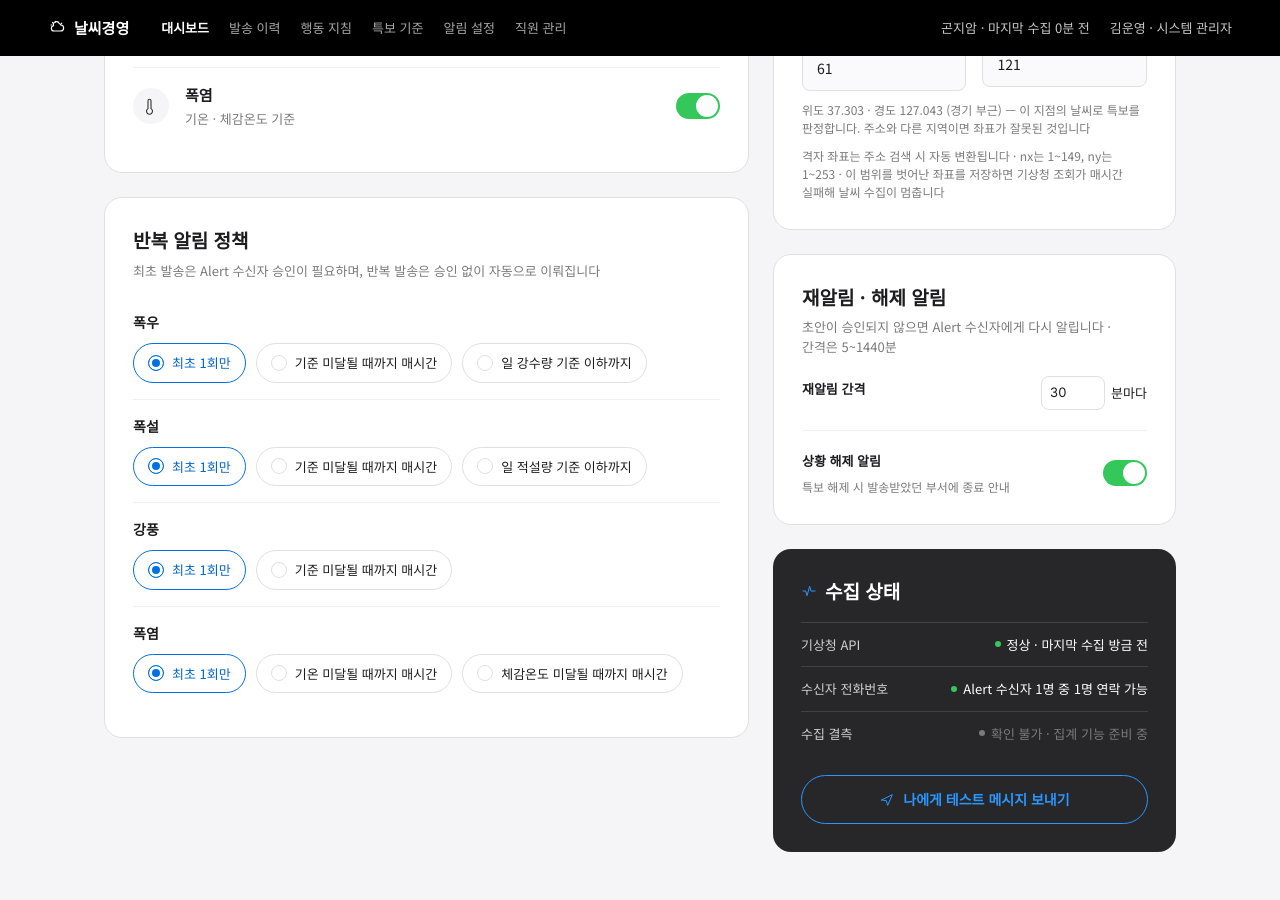
Test case: Settings 테스트 발송 › POST /api/send에 { mode: 'test' }를 보내고 성공 토스트를 띄운다
(page scrolled)
Click the button "나에게 테스트 메시지 보내기" at coordinates (974, 800), box [801,775,1148,824]
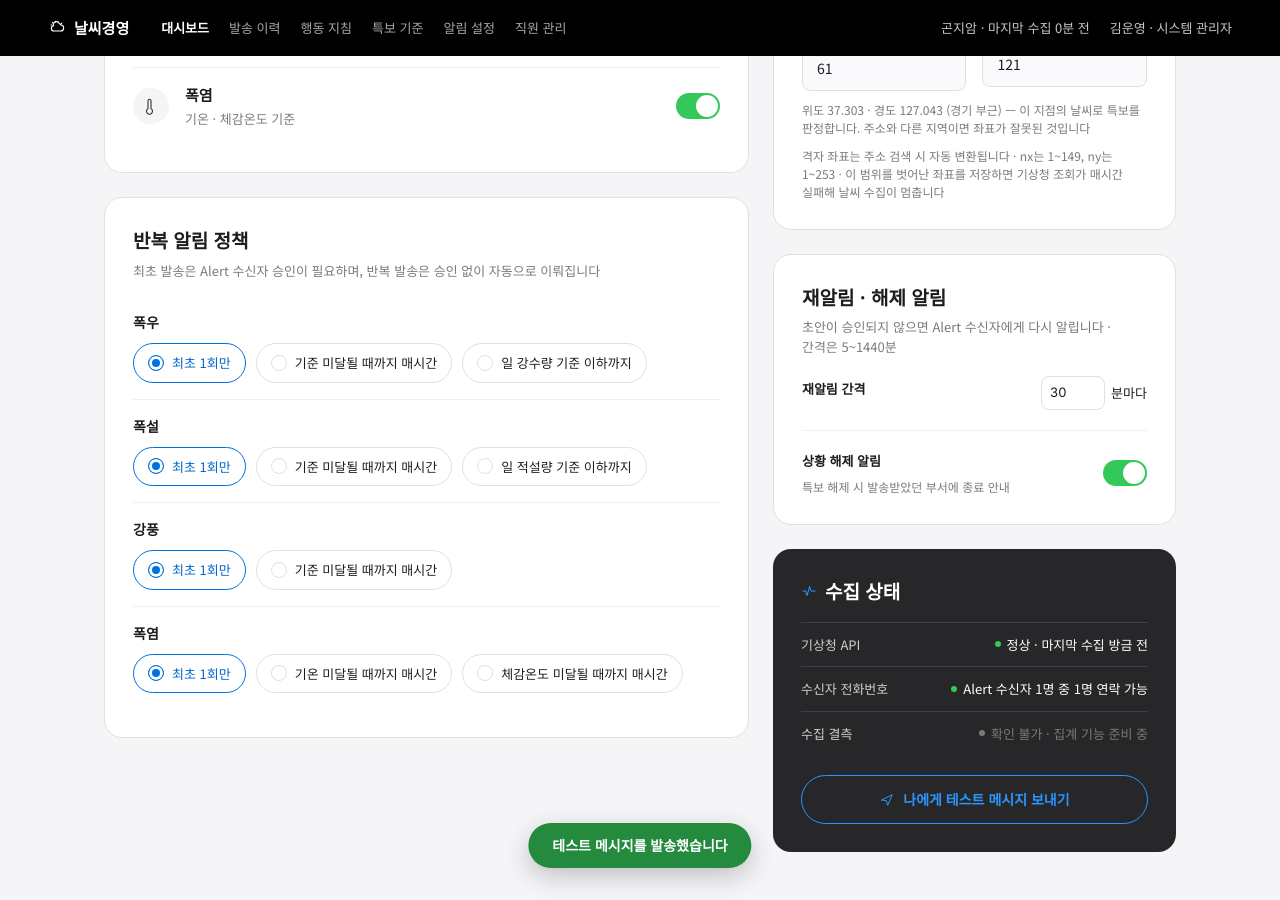
Check: the text "테스트 메시지를 발송했습니다" is shown, box [528,823,752,868]
